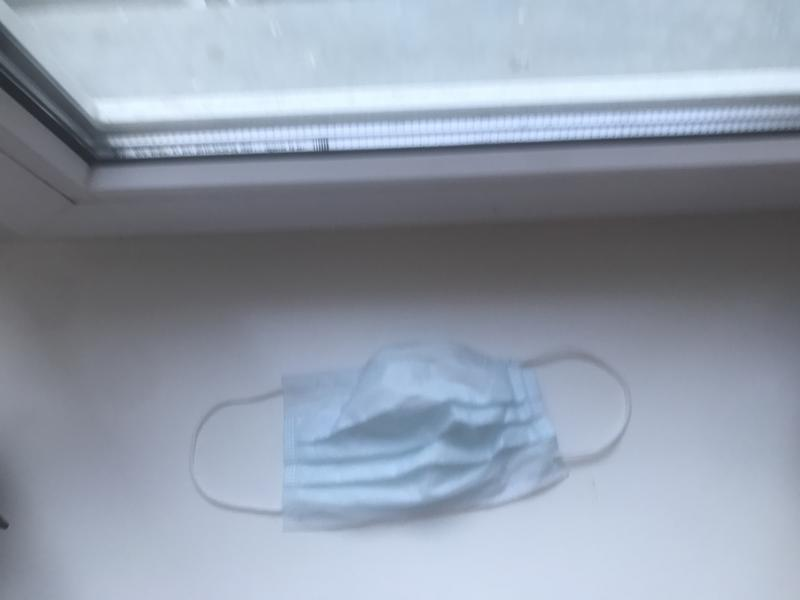medical_mask: (189, 341, 634, 515)
